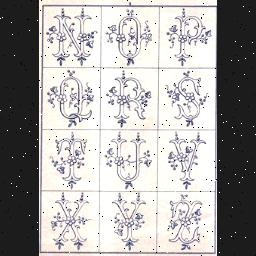n: (46, 10, 98, 64)
p: (170, 10, 204, 64)
q: (56, 72, 96, 128)
r: (111, 74, 147, 124)
s: (172, 72, 206, 126)
t: (48, 134, 90, 188)
u: (107, 136, 147, 188)
v: (168, 136, 208, 188)
x: (52, 192, 90, 248)
y: (164, 197, 206, 245), (109, 197, 147, 249)
